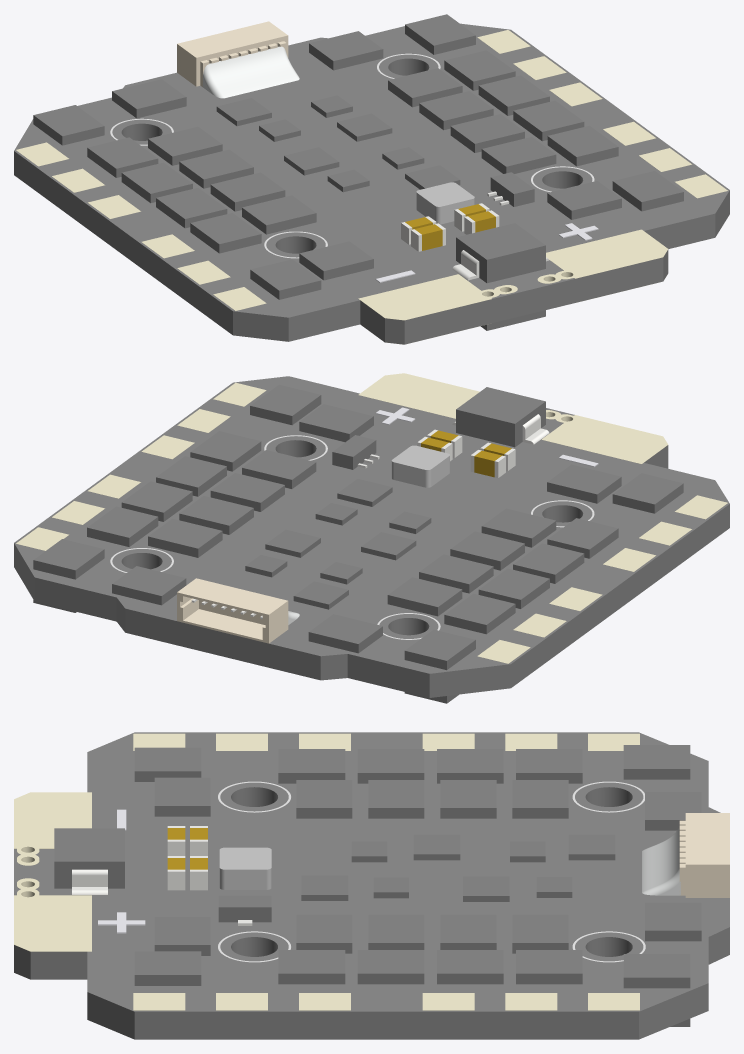
The model's file is Dakefpv_120A.glb.
3 views of the same model, one above another, from view 1: azimuth 30°, elevation 25°; view 2: azimuth 150°, elevation 25°; view 3: azimuth 270°, elevation 25° (orthographic). The views are drawn at different scales.
Parts seen in each view (by area): view 1: Body1; view 2: Body1; view 3: Body1.
Part boxes in pixels (<box>): Body1: <box>14,14,729,344</box>; Body1: <box>14,373,729,703</box>; Body1: <box>14,732,729,1039</box>.
Bounding box in the file's own units: 0.0559 × 0.00823 × 0.0606.
